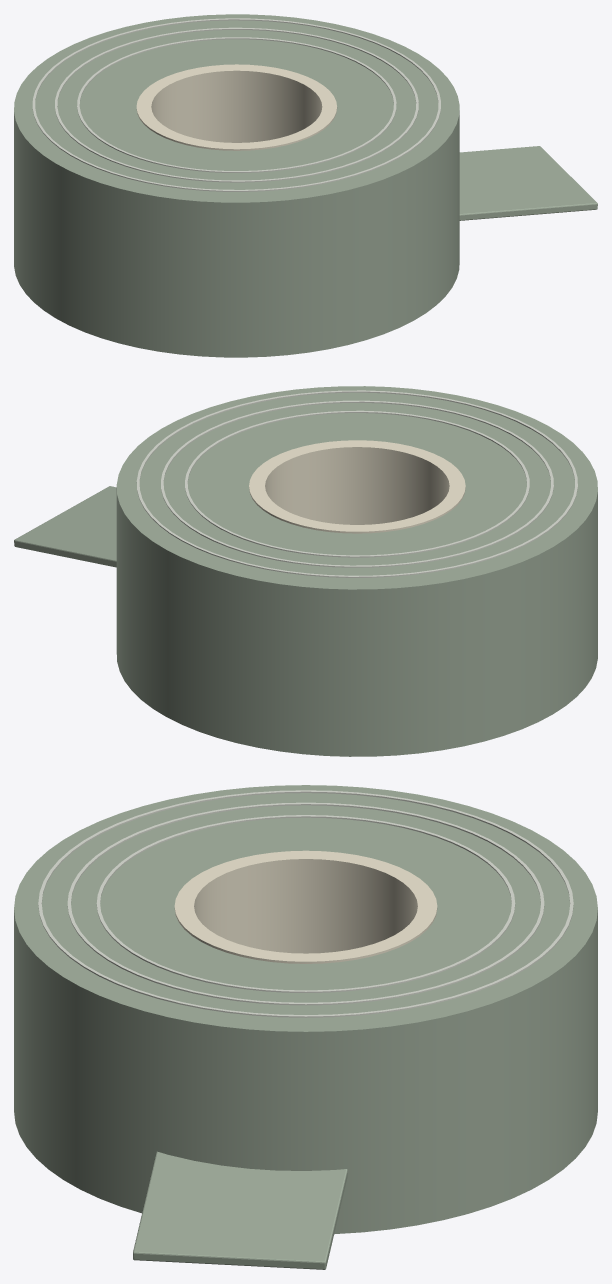
File: loot_tape.glb
The picture shows the model from 3 angles, top to bottom: view 1: azimuth 30°, elevation 25°; view 2: azimuth 150°, elevation 25°; view 3: azimuth 270°, elevation 25°; orthographic projection. The views are drawn at different scales.
Visible parts, largest first — view 1: loot_tape; view 2: loot_tape; view 3: loot_tape.
Part boxes in pixels (x1,y1,x2,y2): loot_tape: (14, 14, 597, 357); loot_tape: (14, 386, 597, 756); loot_tape: (14, 785, 597, 1269).
Size of the model in its own units: 0.1565 by 0.0477 by 0.12.
